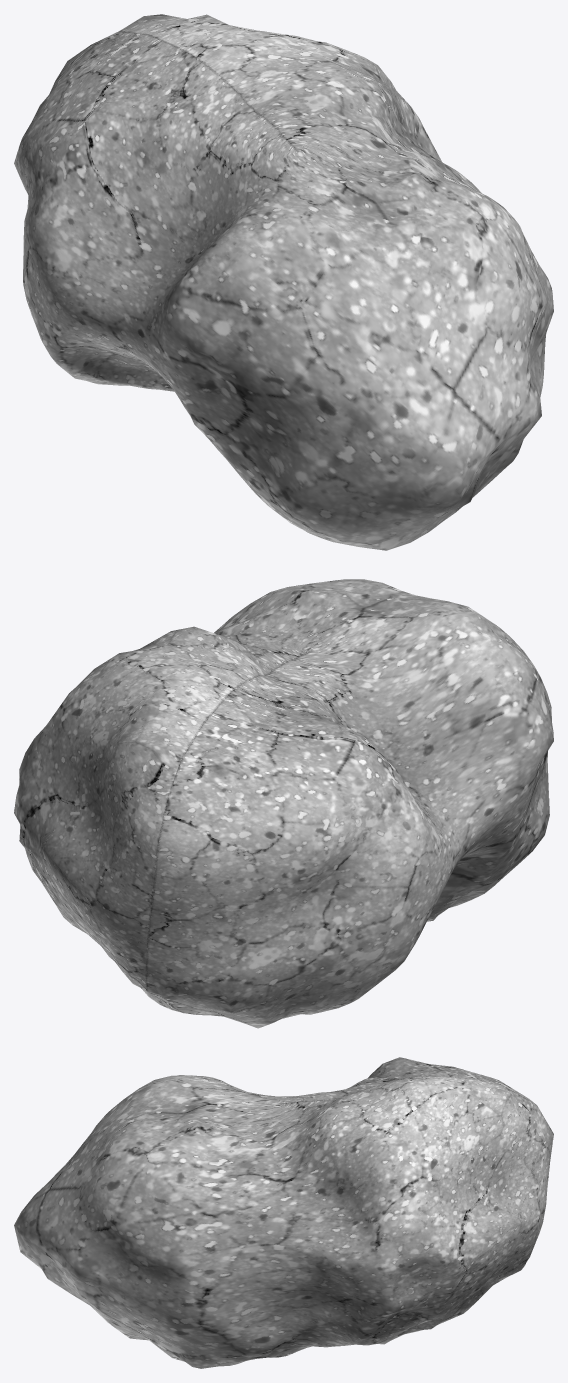
File: Asteroid2.fbx
The picture shows the model from 3 angles, top to bottom: view 1: azimuth 30°, elevation 25°; view 2: azimuth 150°, elevation 25°; view 3: azimuth 270°, elevation 25°; orthographic projection. The views are drawn at different scales.
Visible parts, largest first — view 1: pCube1; view 2: pCube1; view 3: pCube1.
Part boxes in pixels (x1,y1,x2,y2): pCube1: (14, 14, 553, 550); pCube1: (14, 579, 553, 1028); pCube1: (14, 1057, 553, 1368).
Size of the model in its own units: 8.45 by 7.2 by 13.64.
